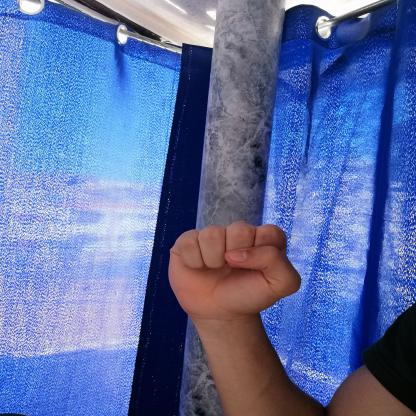SAD: (142, 207, 320, 332)
